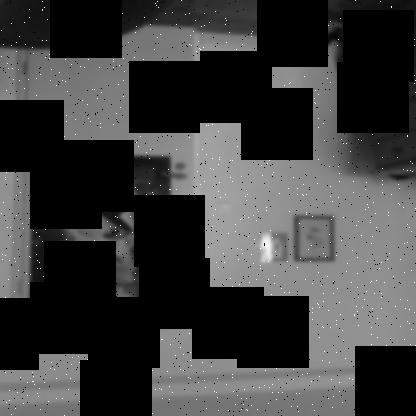Porte: (8, 25, 208, 338)
